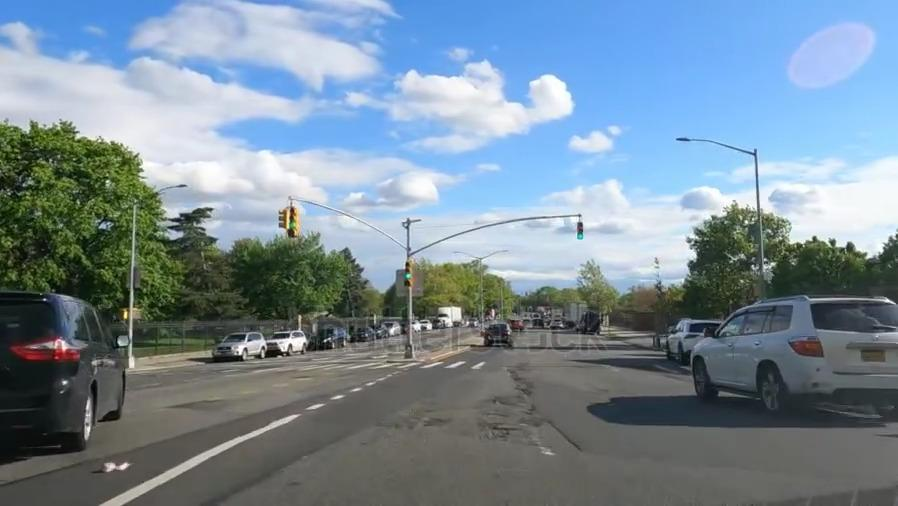car: (699, 302, 898, 411), (0, 299, 147, 445), (671, 313, 715, 359), (212, 330, 267, 361), (268, 325, 303, 355), (313, 327, 349, 349)
pedestrian: (203, 349, 687, 376)
pothole: (493, 390, 512, 411)
road crack: (508, 360, 537, 407)
road damage: (515, 416, 579, 461), (384, 410, 454, 440), (471, 415, 525, 450)
rubbish: (100, 459, 131, 477)
traffic light: (276, 200, 301, 243), (485, 319, 514, 353), (401, 253, 416, 299), (573, 215, 587, 246)
wheel: (758, 363, 786, 417), (693, 361, 715, 403)
